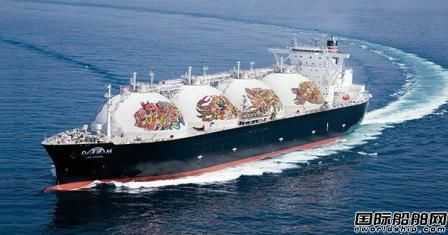Cargoship: (37, 30, 369, 191)
